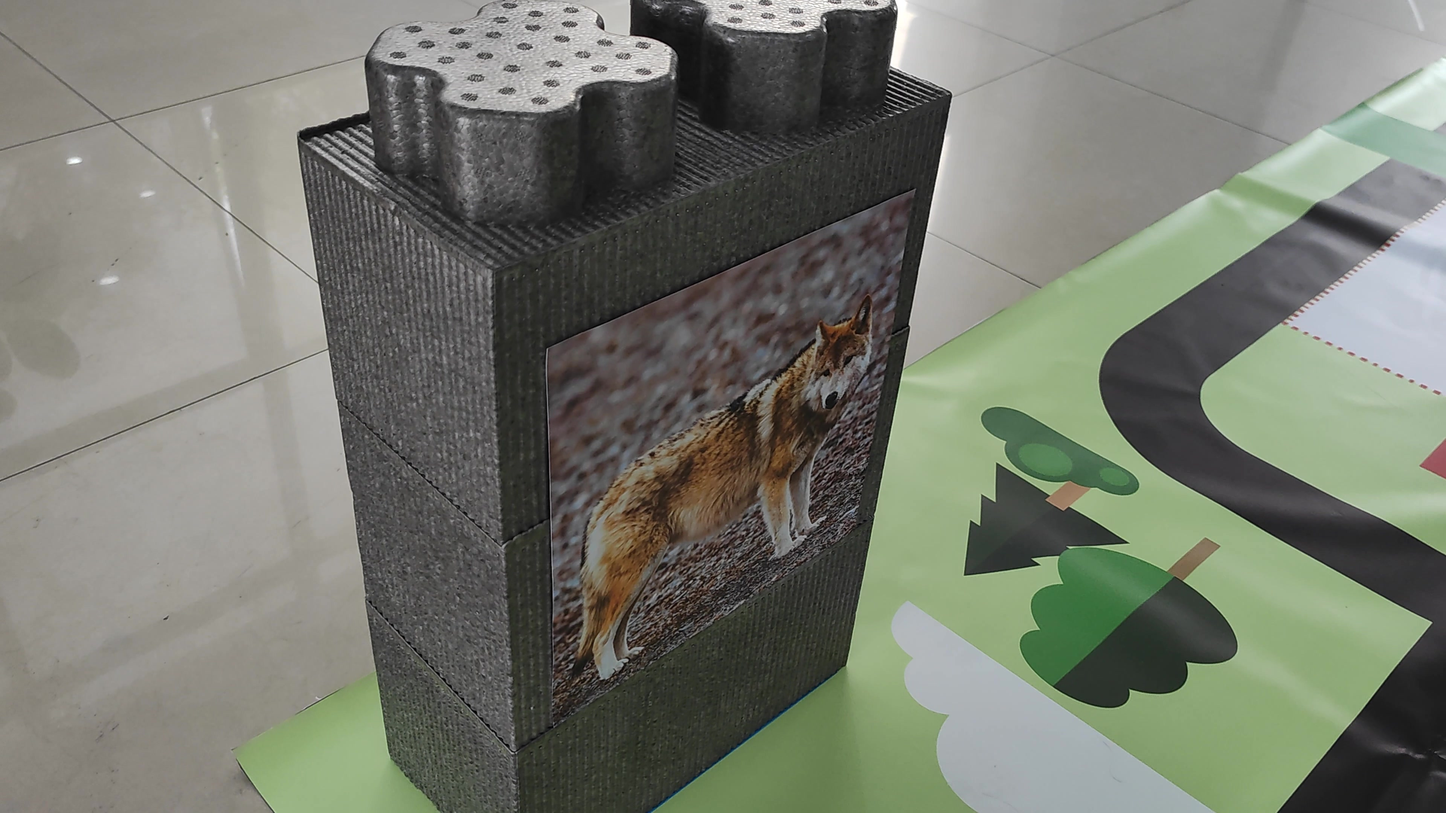wolf: (559, 289, 863, 692)
